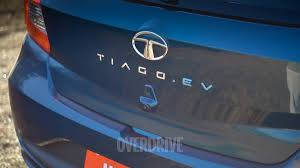Tiago: (6, 1, 300, 168)
